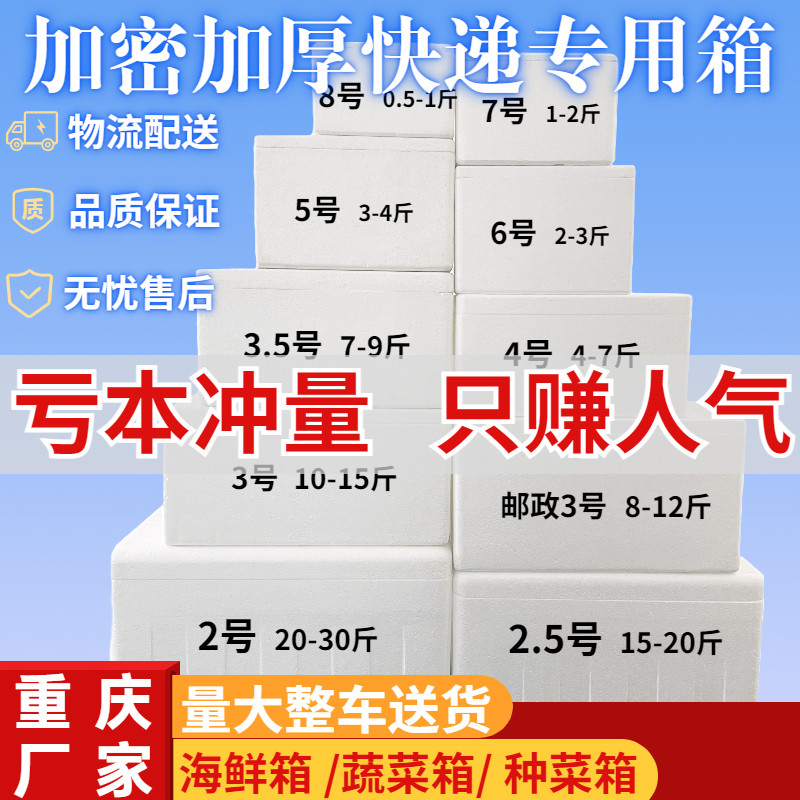泡沫箱: (113, 38, 762, 700)
